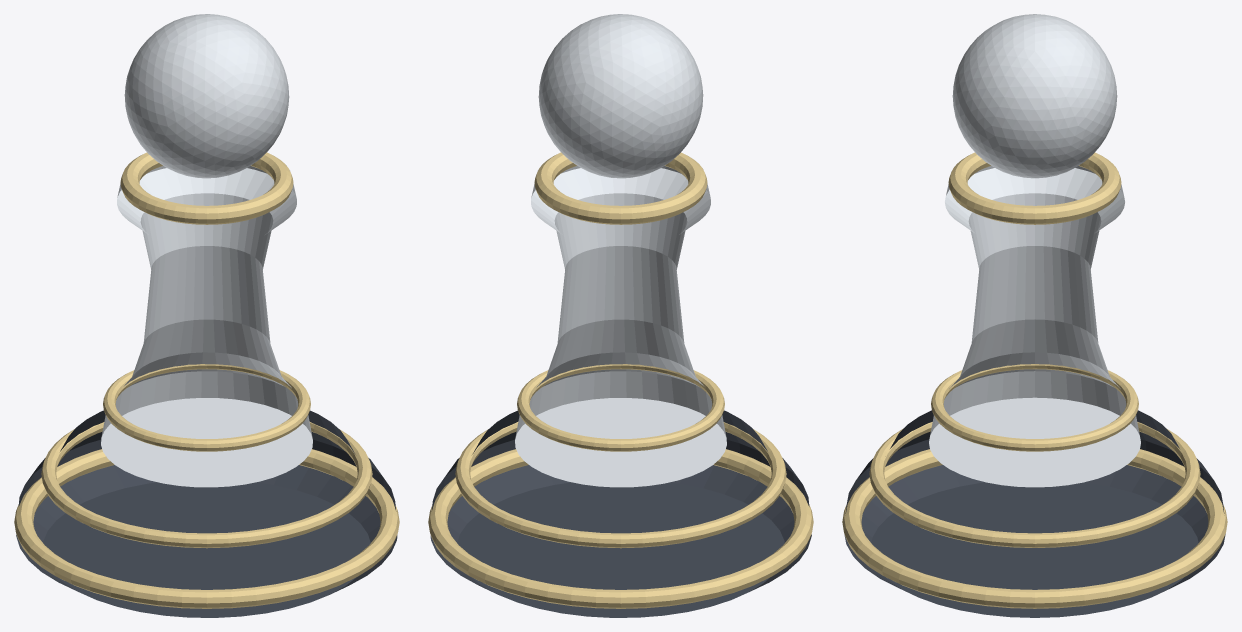
File: pawn.glb
3 views of the same model, side by side, from view 1: azimuth 30°, elevation 25°; view 2: azimuth 150°, elevation 25°; view 3: azimuth 270°, elevation 25° (orthographic).
Parts seen in each view (by area): view 1: pawn_Polished Platinum, pawn_Obsidian Enamel, pawn_Champagne Gold; view 2: pawn_Polished Platinum, pawn_Obsidian Enamel, pawn_Champagne Gold; view 3: pawn_Polished Platinum, pawn_Obsidian Enamel, pawn_Champagne Gold.
Boxes of the visible parts, bbox=[...] form: pawn_Polished Platinum: bbox=[101, 14, 312, 487]; pawn_Obsidian Enamel: bbox=[16, 410, 397, 617]; pawn_Champagne Gold: bbox=[14, 152, 399, 608]; pawn_Polished Platinum: bbox=[515, 14, 726, 487]; pawn_Obsidian Enamel: bbox=[430, 410, 811, 617]; pawn_Champagne Gold: bbox=[428, 152, 813, 608]; pawn_Polished Platinum: bbox=[929, 14, 1140, 487]; pawn_Obsidian Enamel: bbox=[844, 410, 1225, 617]; pawn_Champagne Gold: bbox=[842, 152, 1227, 608].
Size of the model in its own units: 0.726 by 1.1 by 0.726.
